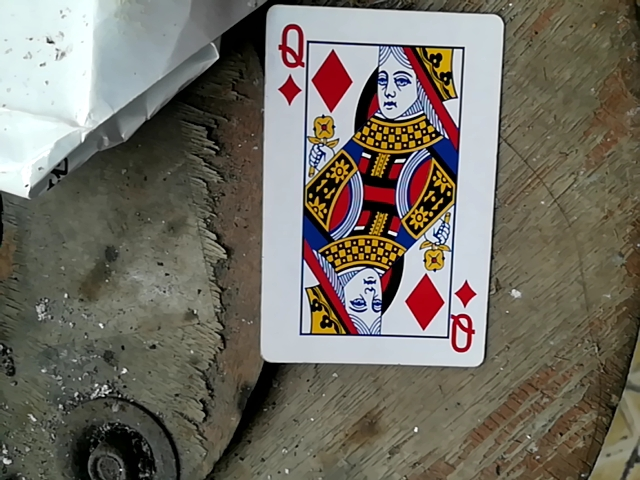fk q: (249, 0, 507, 379)
